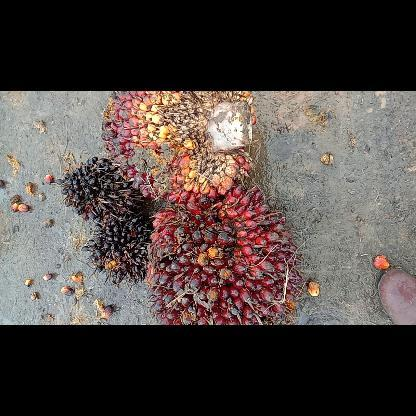TBS abnormal: (57, 152, 149, 222), (79, 212, 151, 284)
TBS masak: (144, 186, 302, 324), (98, 91, 258, 207)
